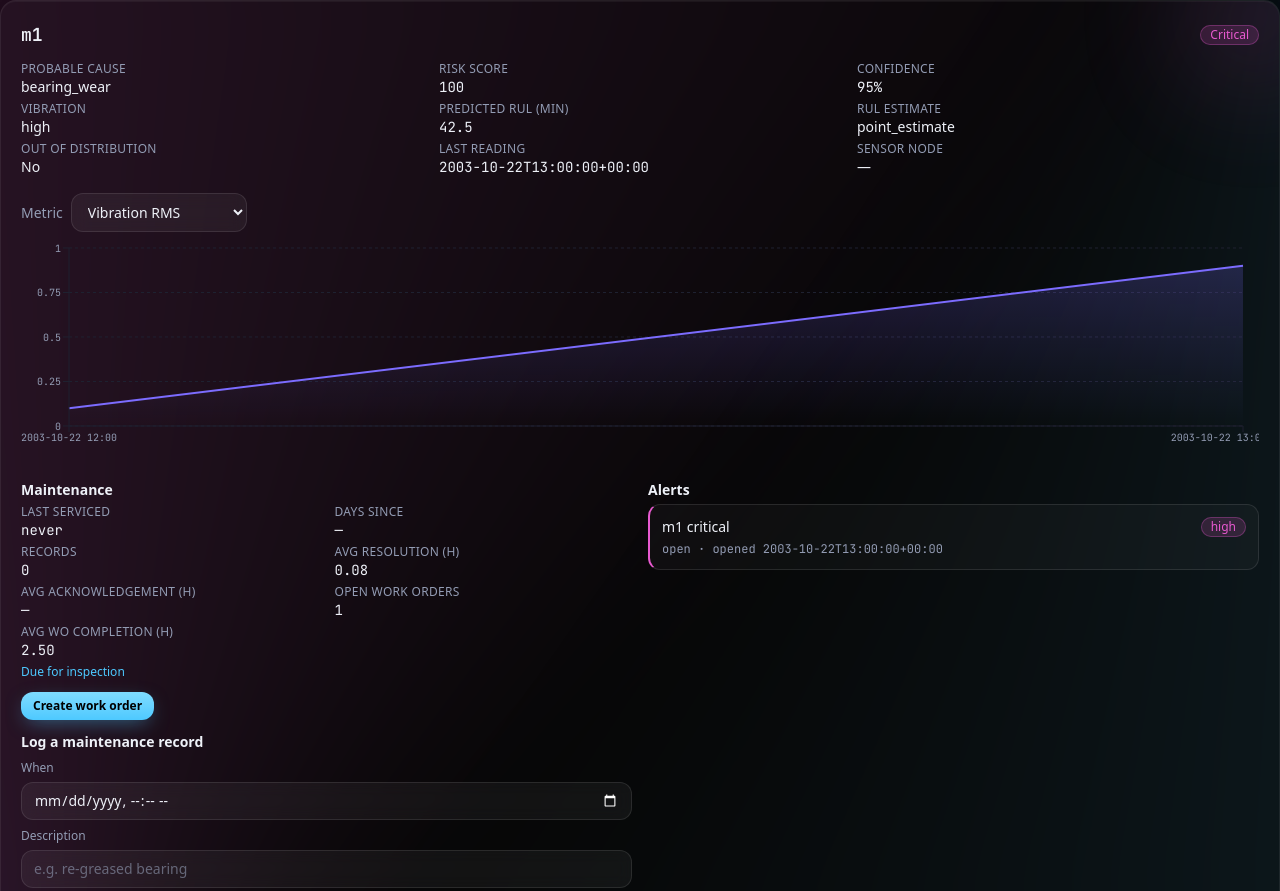
Test: MachineDetail › points at the open work order when the selected alert already has one
This screenshot has width=1280, height=891.
Click the text "m1 critical": (696, 527) [662,517,730,537]
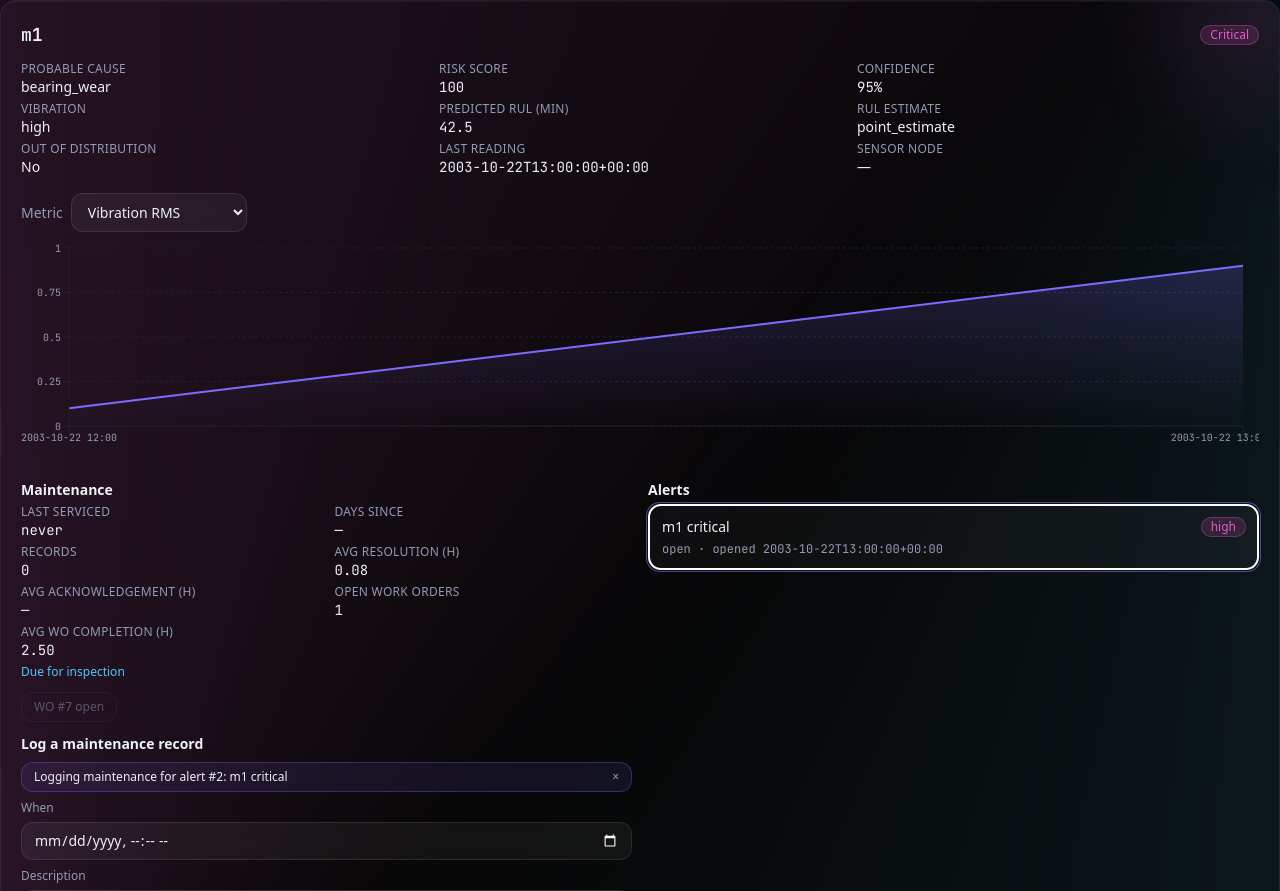
Result: the button "WO #7 open" is disabled at [21,692,117,722]
Result: the button "Create work order" is gone
